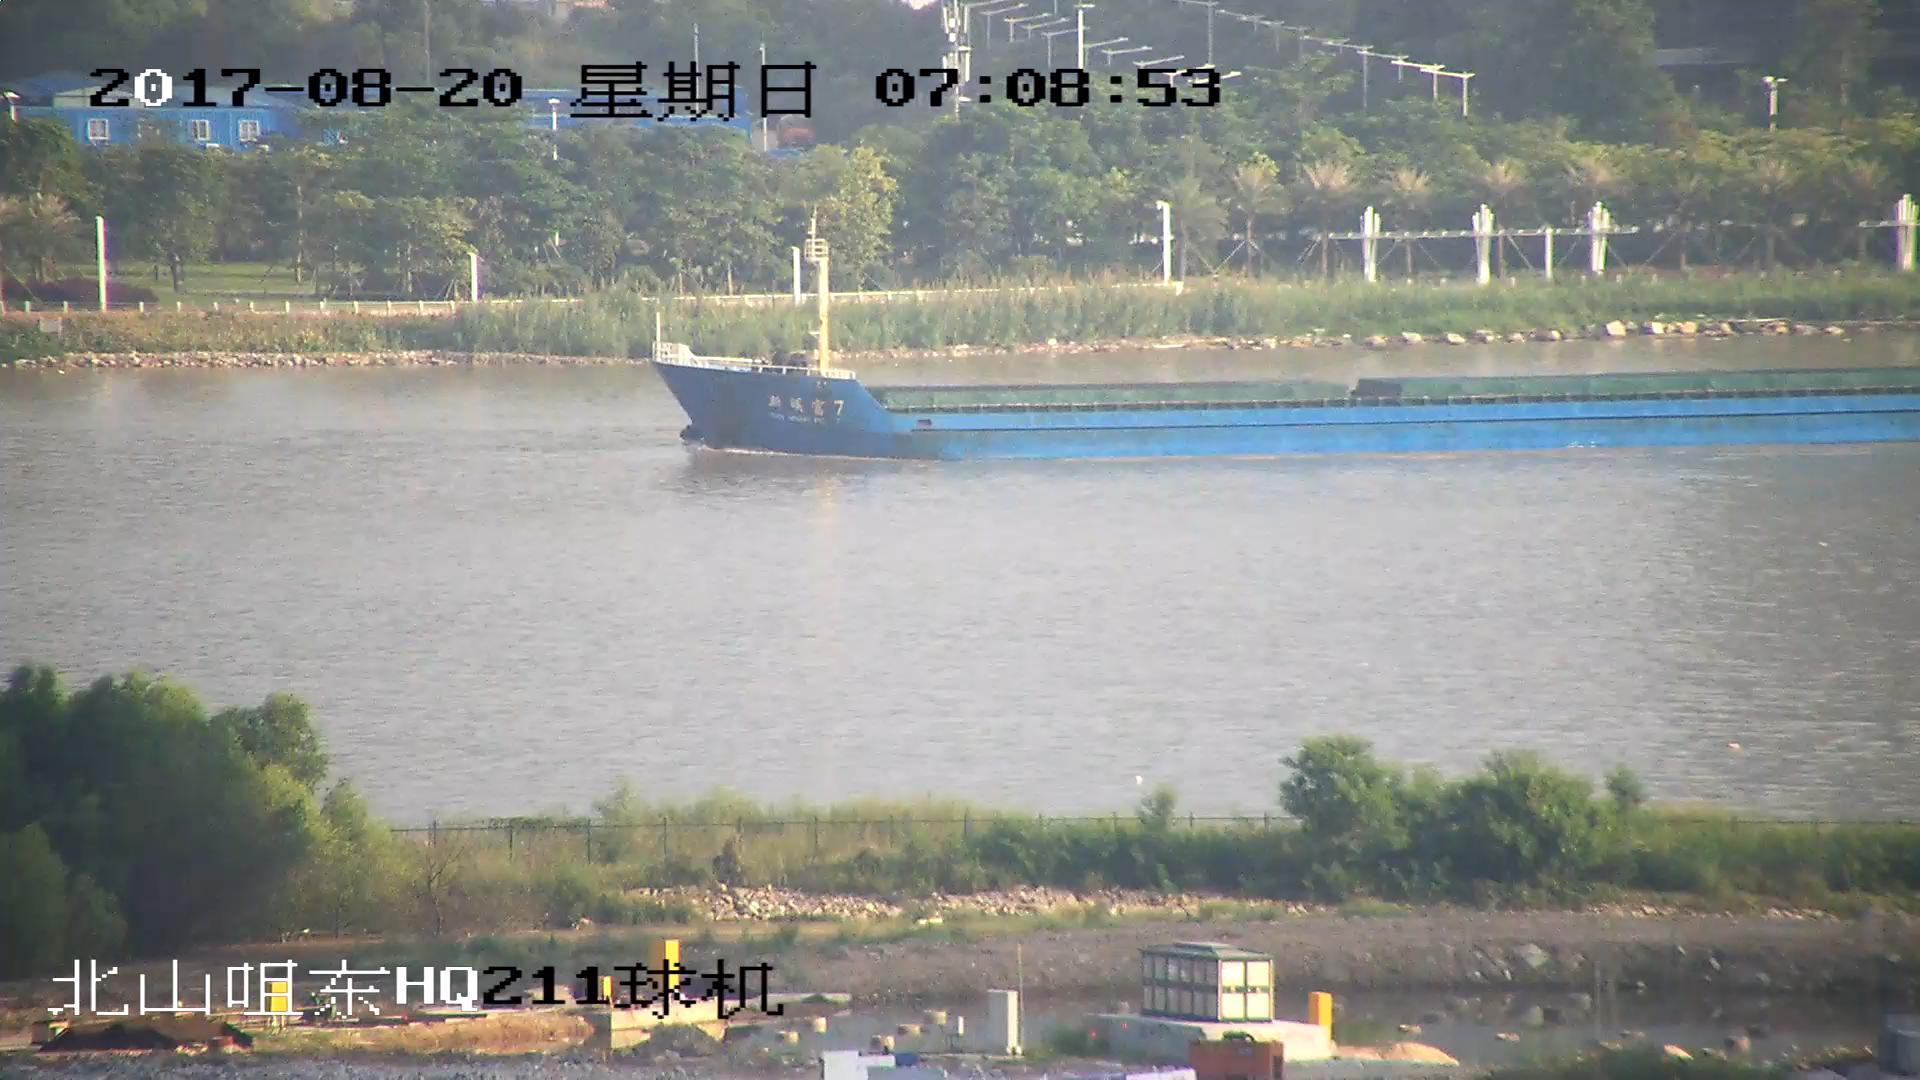Ship: (655, 235, 1920, 469)
